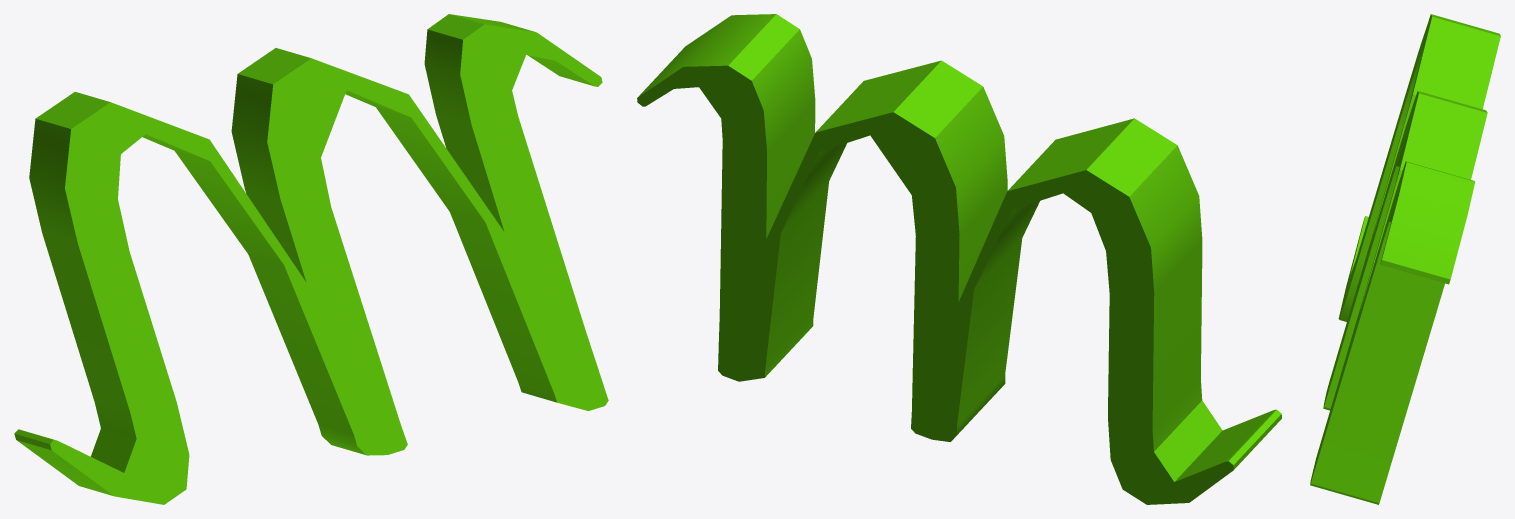
The model's file is m_formula_C.fbx.
3 renders of one model, left to right at view 1: azimuth 30°, elevation 25°; view 2: azimuth 150°, elevation 25°; view 3: azimuth 270°, elevation 25°, orthographic. The views are drawn at different scales.
Parts seen in each view (by area): view 1: m_formula_C; view 2: m_formula_C; view 3: m_formula_C.
Boxes of the visible parts, x1,y1,x2,y2 form: m_formula_C: (14, 14, 608, 504); m_formula_C: (637, 14, 1281, 504); m_formula_C: (1310, 14, 1500, 504).
Bounding box in the file's own units: 3.46 × 2.25 × 1.2.
